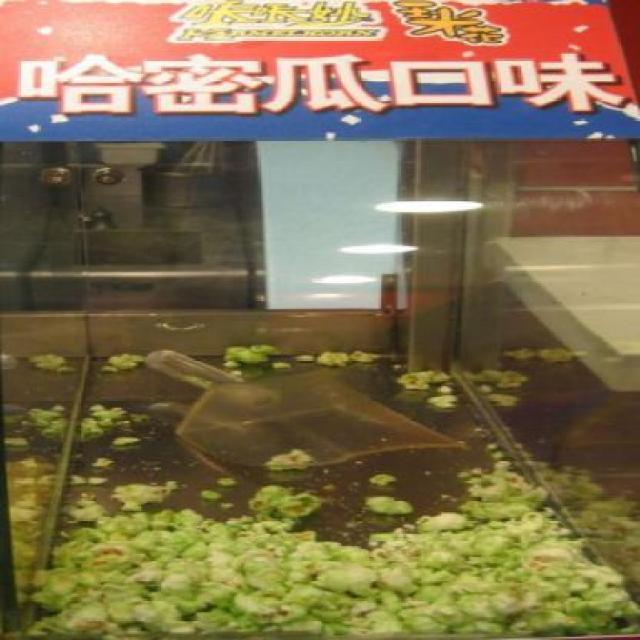Popcorn: (46, 344, 640, 633)
